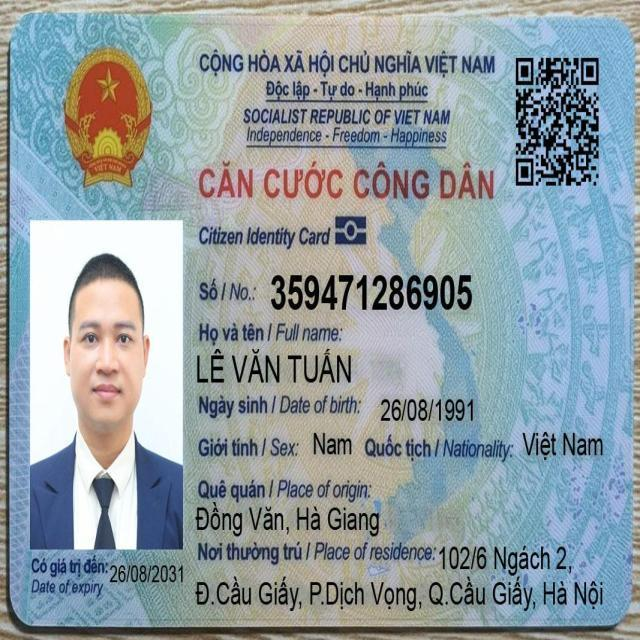current_place: (190, 570, 607, 614), (436, 537, 574, 577)
dob: (377, 392, 479, 430)
expire_date: (106, 558, 186, 590)
gender: (311, 427, 355, 465)
id: (266, 265, 477, 318)
name: (193, 343, 357, 392)
nationality: (519, 425, 607, 465)
origin_place: (193, 498, 384, 541)
